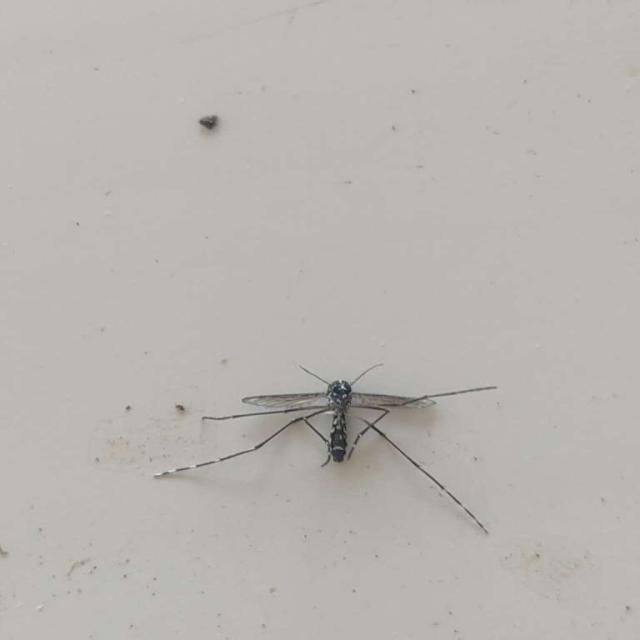albopictus: (167, 353, 498, 523)
